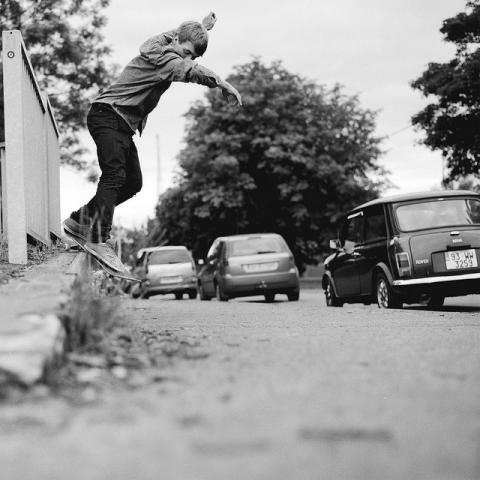car: (324, 193, 476, 312), (197, 232, 299, 302), (132, 246, 197, 299)
